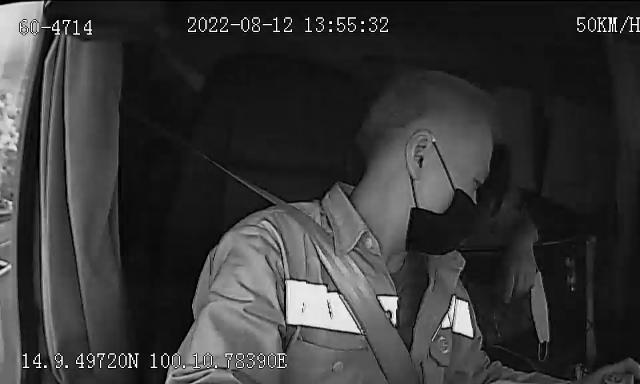Seatbelt: (244, 180, 416, 384)
